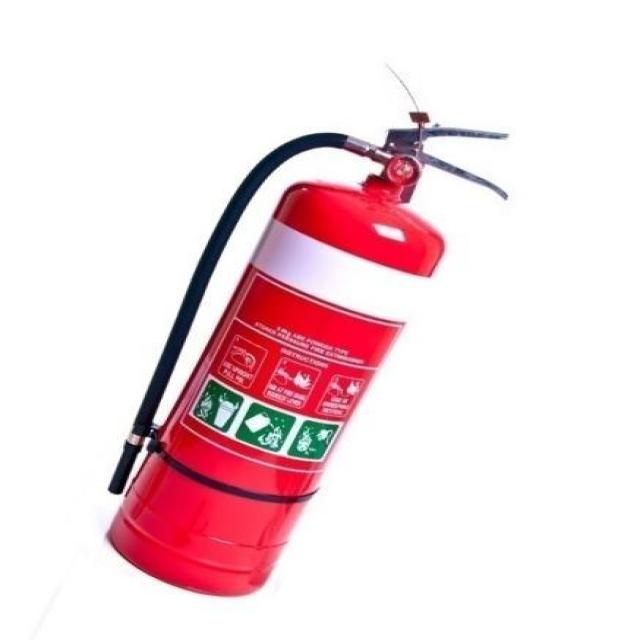fire_extinguisher: (95, 106, 518, 604)
